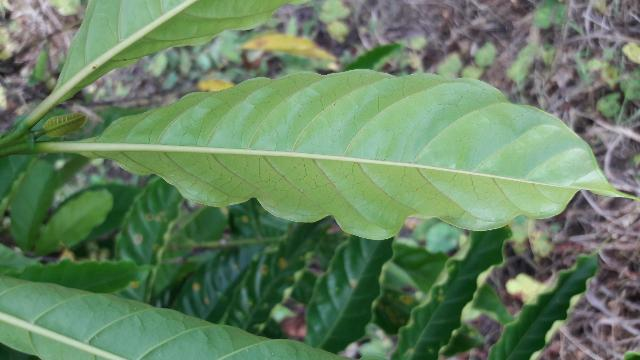healthy: (89, 73, 620, 244)
